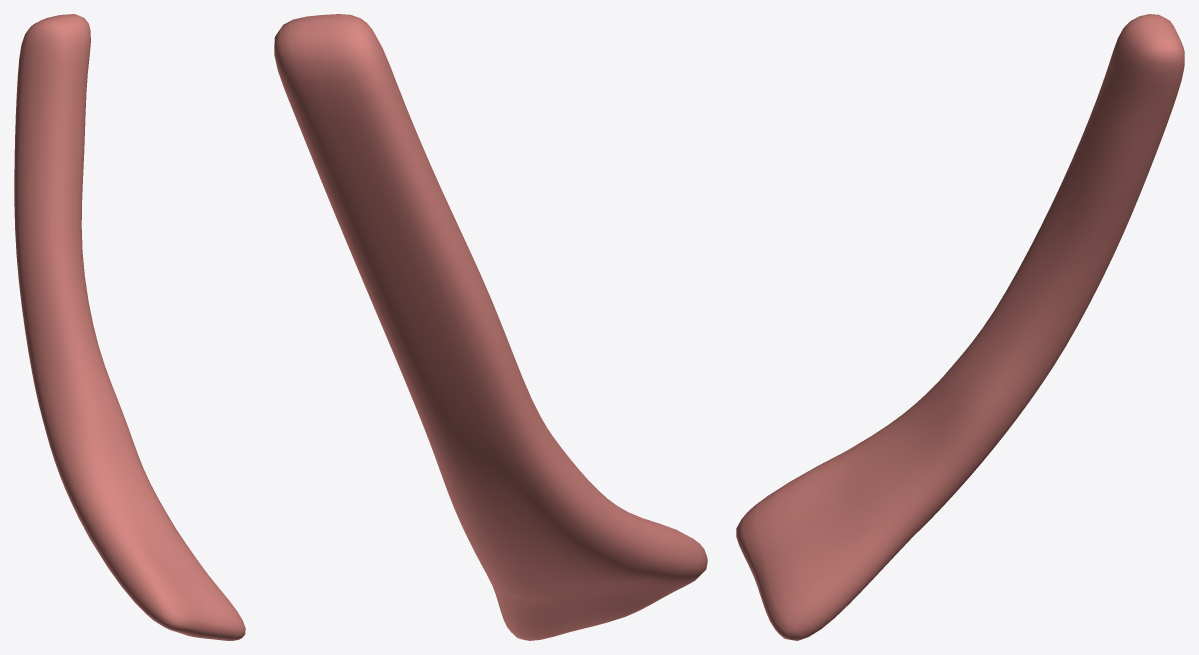
The picture shows the model from 3 angles, left to right: view 1: azimuth 30°, elevation 25°; view 2: azimuth 150°, elevation 25°; view 3: azimuth 270°, elevation 25°; orthographic projection. The views are drawn at different scales.
Parts seen in each view (by area): view 1: ZA_d52aee04bdaa0418; view 2: ZA_d52aee04bdaa0418; view 3: ZA_d52aee04bdaa0418.
Boxes of the visible parts, <box> form: ZA_d52aee04bdaa0418: <box>14,14,245,640</box>; ZA_d52aee04bdaa0418: <box>274,14,707,640</box>; ZA_d52aee04bdaa0418: <box>736,14,1184,640</box>.
Bounding box in the file's own units: 0.0167 × 0.069 × 0.0464.
